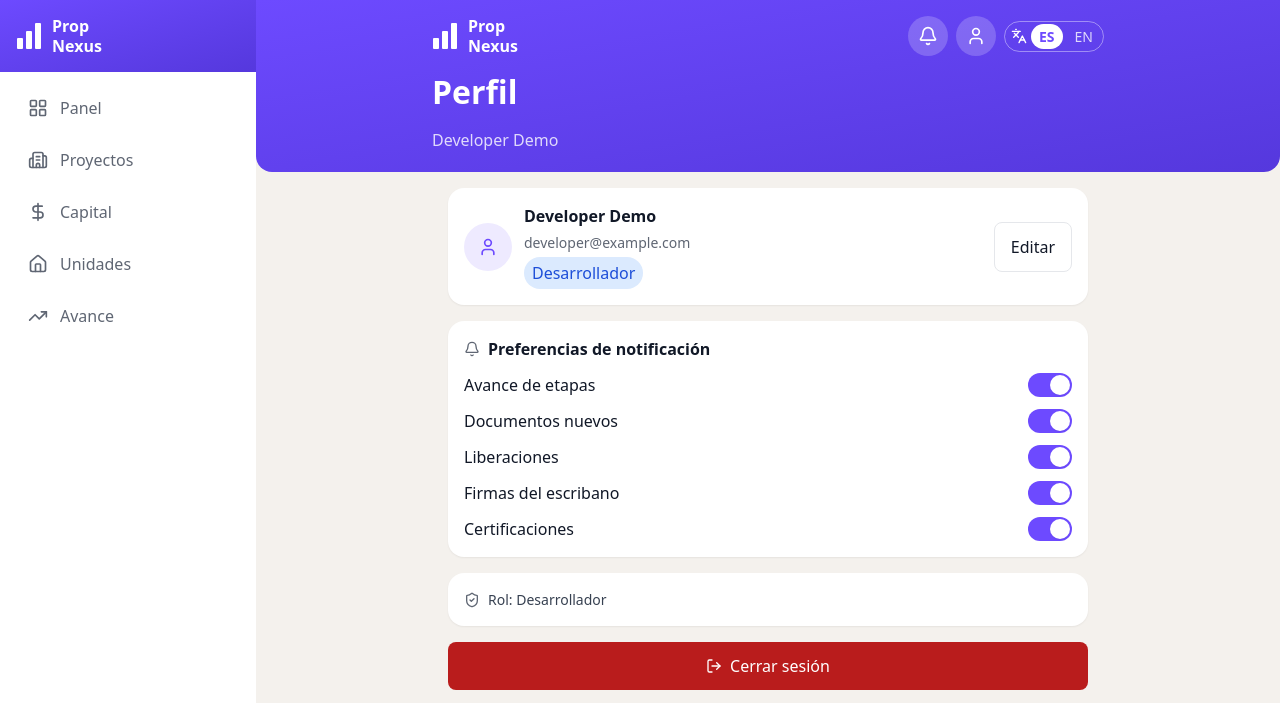
Test: ProfileScreen › edición del nombre › el formulario no existe hasta que se toca Editar, y arranca con el nombre actual
The image size is (1280, 703).
Expected: the text "developer@example.com" is shown, [524,233,690,252]
Click the button "Editar". click: (1033, 246)
box: [994,222,1072,272]
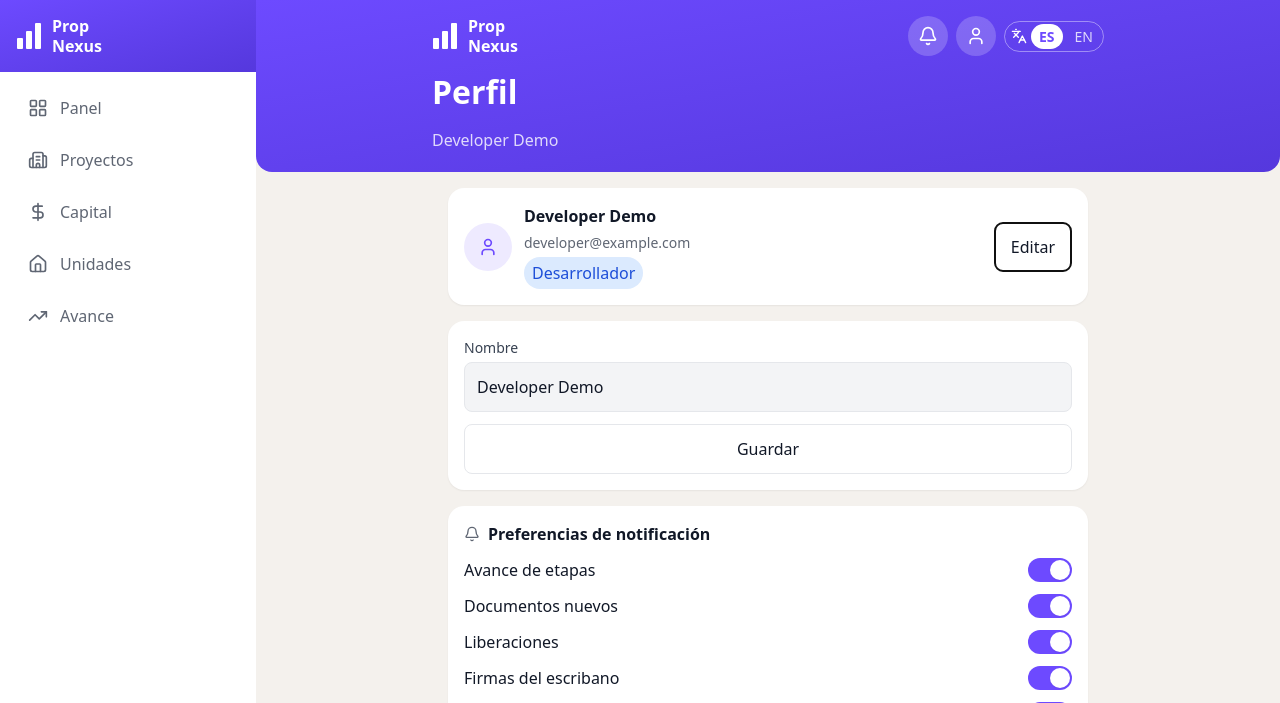
Expected: the form with test id "EDIT-001" is shown, [448,321,1088,490]
Expected: the field labelled "Nombre" holds "Developer Demo", [464,362,1072,412]
